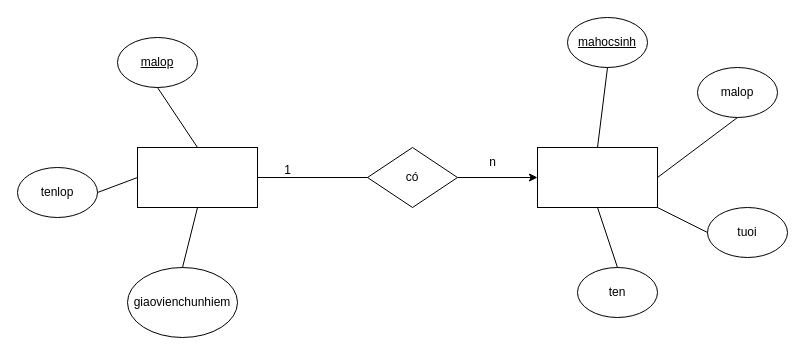
The diagram is 805 pixels wide and 355 high, and some of its shapes have lost their labels. Each missing label, with the centre of its shape:
lophoc: the point at 197,177
sinhvien: the point at 597,177
